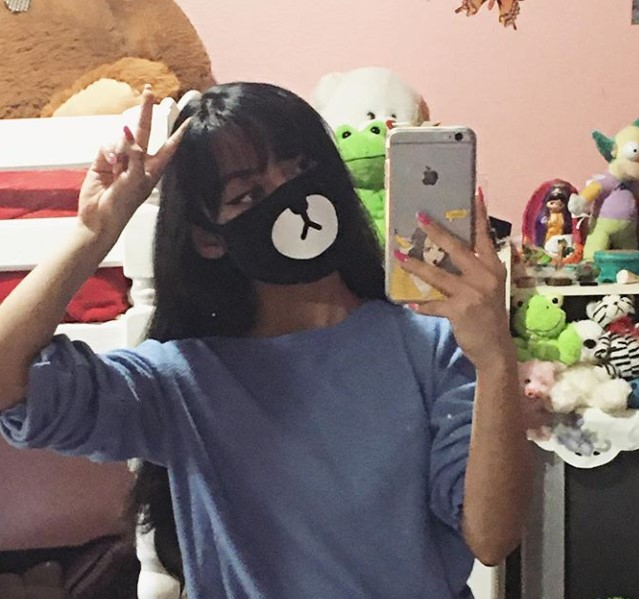face_with_mask: (160, 85, 356, 295)
